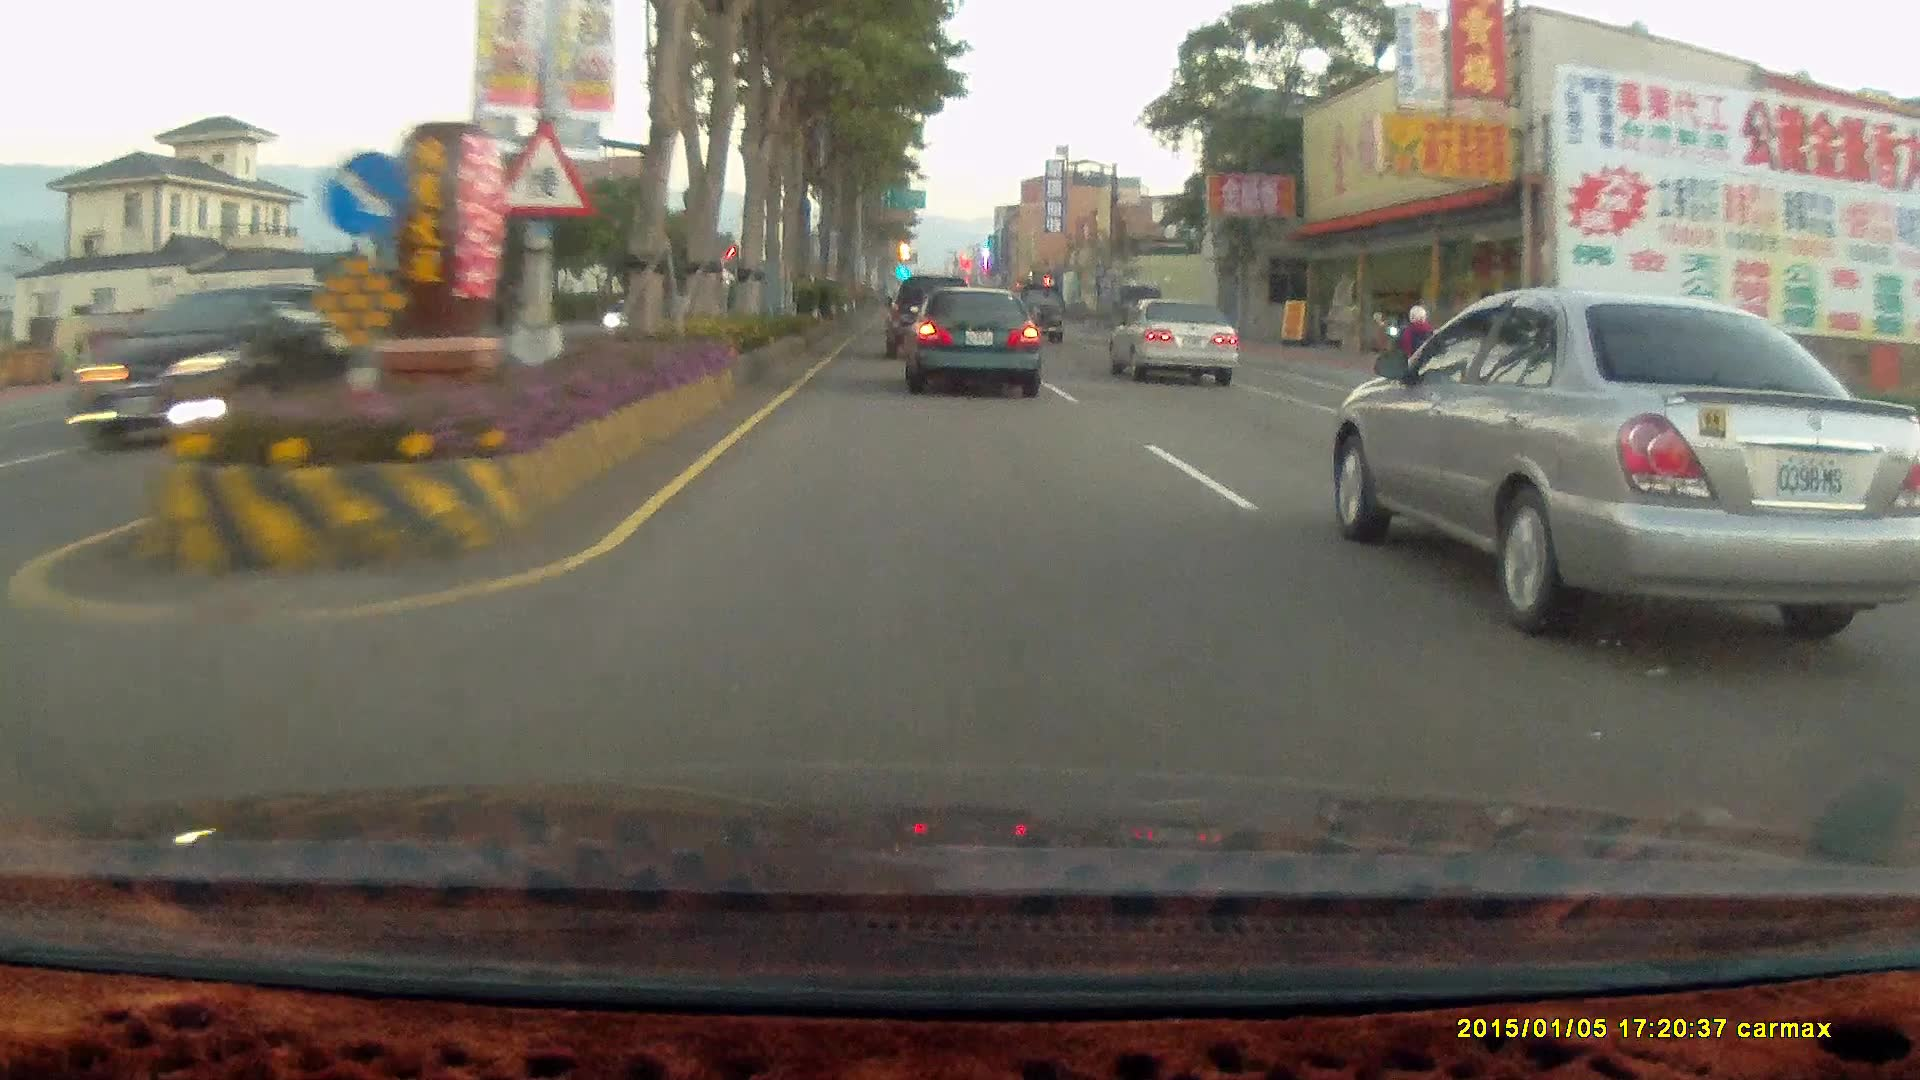rider: (1385, 296, 1448, 413), (1388, 321, 1443, 430)
vehicle: (1343, 289, 1920, 636), (62, 290, 346, 453), (124, 291, 335, 437), (900, 286, 1047, 403), (899, 287, 1042, 399), (145, 316, 312, 390), (1105, 298, 1240, 387), (1121, 303, 1250, 392), (883, 277, 975, 367), (885, 274, 970, 359), (1009, 288, 1065, 349)
